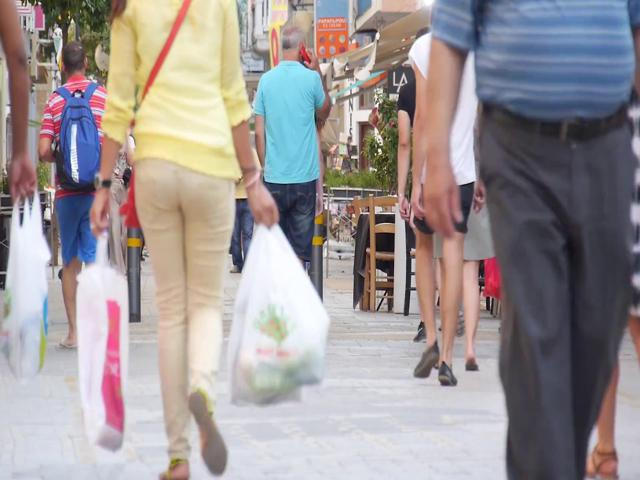shoe: (187, 391, 227, 475), (413, 341, 439, 377), (158, 459, 190, 479), (438, 361, 458, 386), (464, 353, 478, 371)
